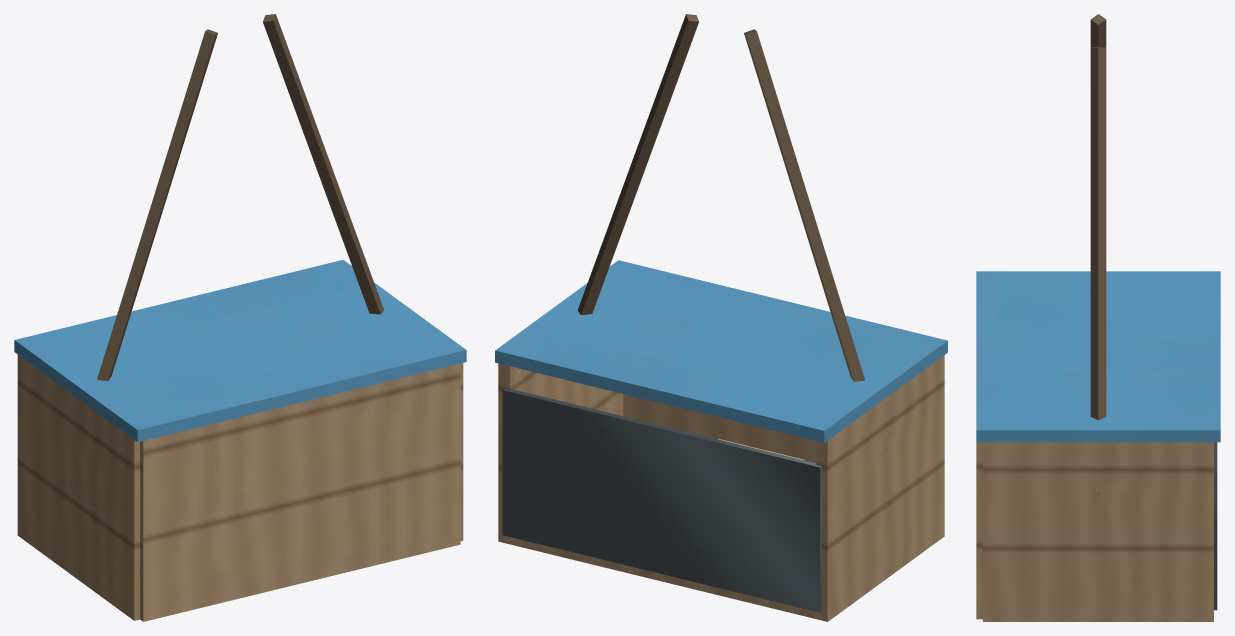
The model's file is fresca-box.glb.
3 views of the same model, side by side, from view 1: azimuth 30°, elevation 25°; view 2: azimuth 150°, elevation 25°; view 3: azimuth 270°, elevation 25° (orthographic).
Visible parts, largest first — view 1: fresca_box; view 2: fresca_box; view 3: fresca_box.
Boxes of the visible parts, x1,y1,x2,y2 form: fresca_box: [14, 14, 466, 621]; fresca_box: [495, 14, 947, 621]; fresca_box: [976, 14, 1220, 621].
Size of the model in its own units: 0.5726 by 0.854 by 0.37.
1 material, 1 textured.
